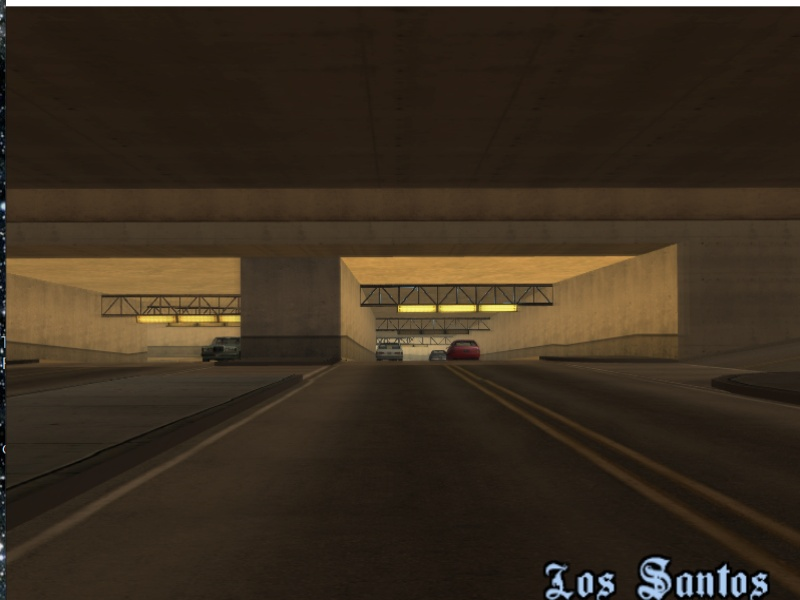vehicle: (201, 332, 240, 362), (446, 339, 485, 362), (374, 341, 406, 362), (427, 349, 446, 362)
